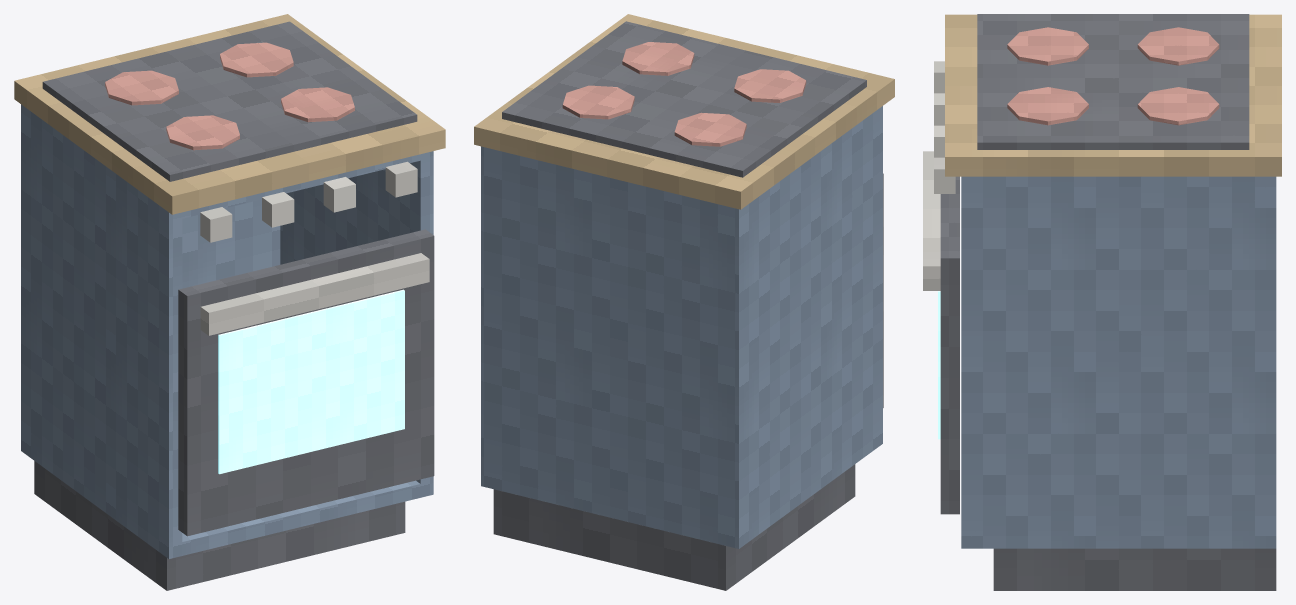
File: pixel-modern-apartments-hob-and-oven-86c786cf__29809.glb
3 renders of one model, left to right at view 1: azimuth 30°, elevation 25°; view 2: azimuth 150°, elevation 25°; view 3: azimuth 270°, elevation 25°, orthographic. The views are drawn at different scales.
Visible parts, largest first — view 1: hob-and-oven, oven/charcoal, oven/cyan, oven/white; view 2: hob-and-oven; view 3: hob-and-oven, oven/charcoal, oven/white.
Boxes of the visible parts, x1,y1,x2,y2 form: hob-and-oven: (14,14,445,590); oven/charcoal: (178,229,434,536); oven/cyan: (218,289,404,474); oven/white: (200,253,429,335); hob-and-oven: (474,14,894,590); hob-and-oven: (934,14,1281,590); oven/charcoal: (940,176,959,514); oven/white: (923,151,940,290).
Bounding box in the file's own units: 0.62 × 0.923 × 0.66.
6 materials, 6 textured.
